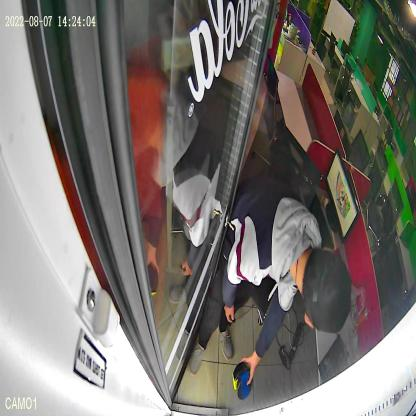blue: (236, 372, 254, 401)
yellow: (232, 362, 250, 390)
